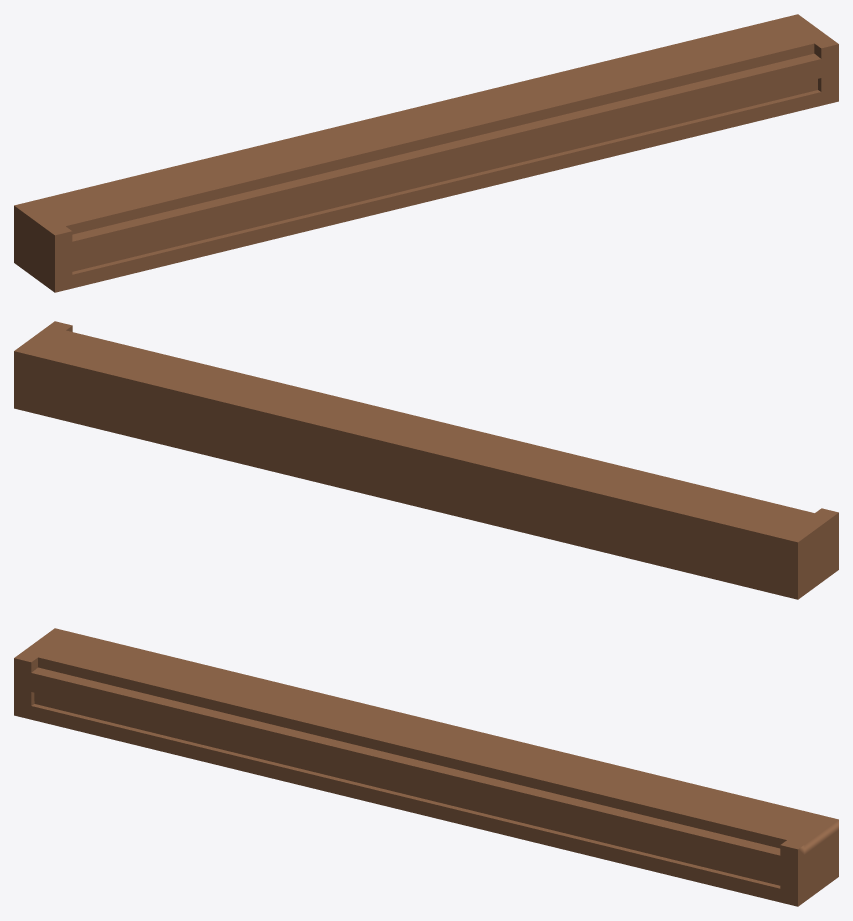
Rendered from SM_Top_Wall.fbx.
3 renders of one model, top to bottom at view 1: azimuth 30°, elevation 25°; view 2: azimuth 150°, elevation 25°; view 3: azimuth 330°, elevation 25°, orthographic.
Parts seen in each view (by area): view 1: Top_Wall; view 2: Top_Wall; view 3: Top_Wall.
Boxes of the visible parts, x1,y1,x2,y2 form: Top_Wall: (14, 14, 838, 292); Top_Wall: (14, 321, 838, 599); Top_Wall: (14, 628, 838, 906).
Bounding box in the file's own units: 10 × 0.6992 × 0.9042.
